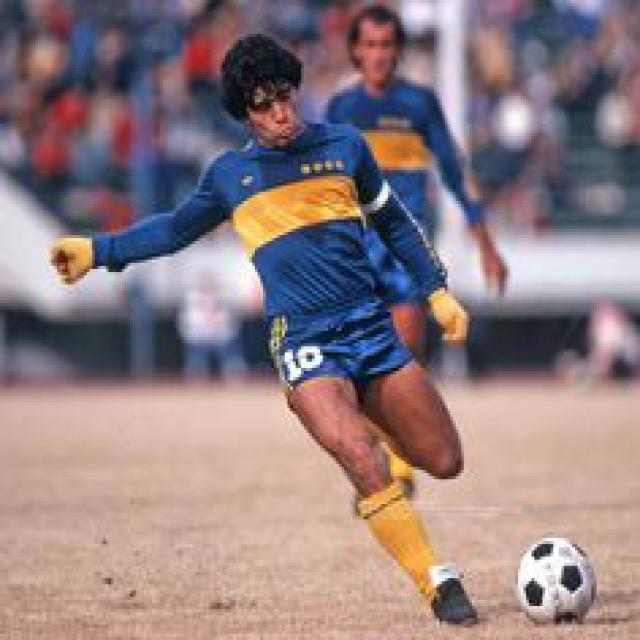ball: (513, 533, 602, 629)
